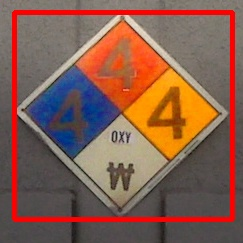nfpa: (14, 12, 232, 219)
